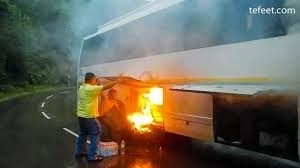fire: (124, 85, 166, 133)
